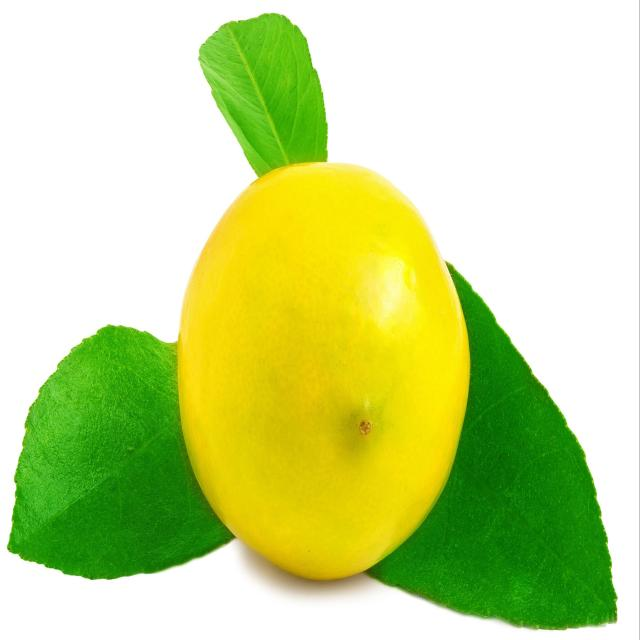lemon: (173, 155, 476, 590)
